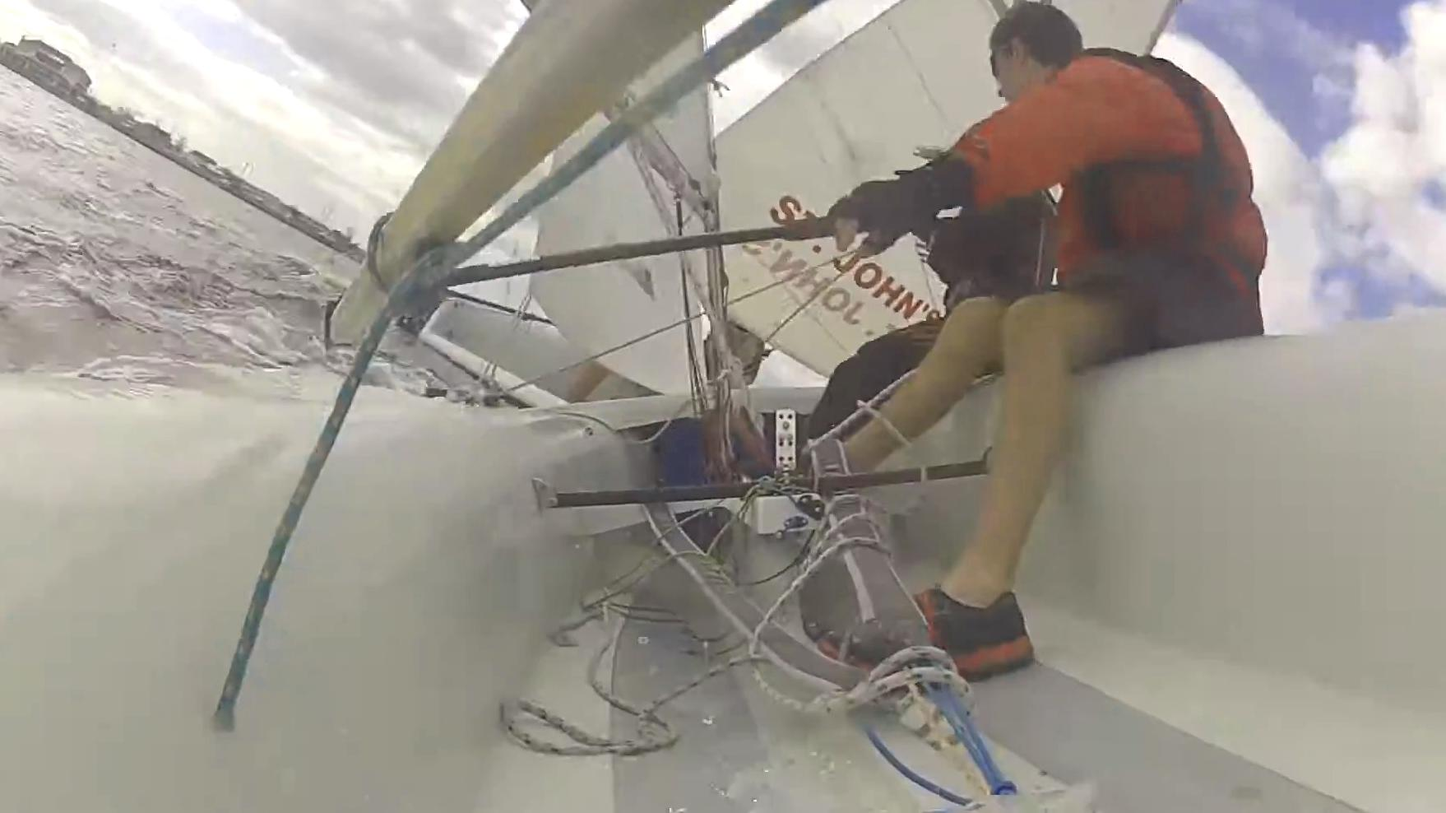boat: (0, 87, 1446, 813), (327, 0, 746, 364)
land: (0, 39, 357, 263)
person: (804, 9, 1267, 676), (809, 190, 1058, 440)
sea: (0, 64, 348, 374), (370, 337, 480, 406)
sky: (0, 0, 533, 242), (1161, 0, 1446, 333), (709, 0, 902, 134)
